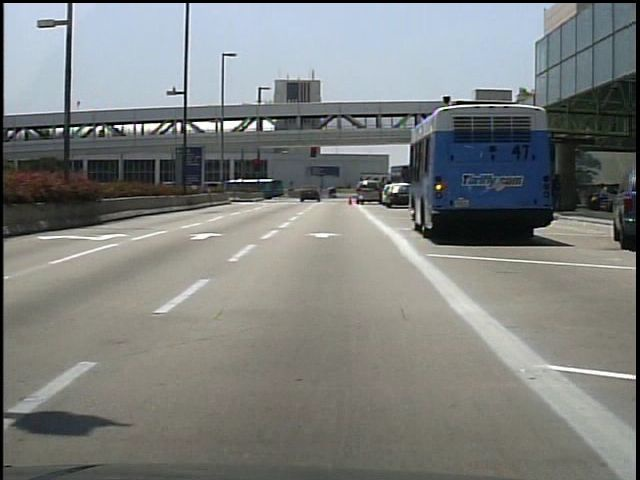person: (589, 183, 609, 210), (550, 175, 565, 210), (327, 187, 339, 201), (331, 186, 340, 202)
